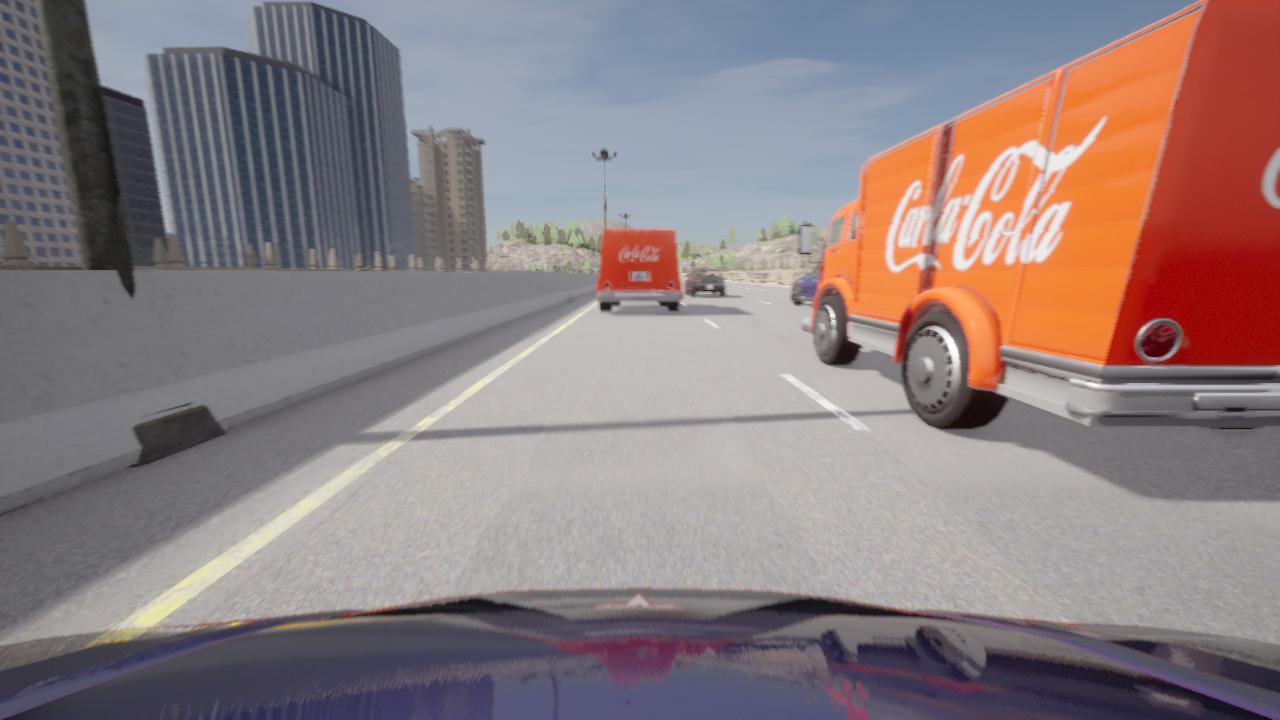cyclist: (798, 0, 1279, 428), (0, 588, 1279, 719), (597, 229, 682, 311), (792, 263, 819, 304), (685, 268, 724, 296)
